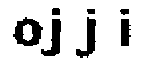i: (112, 3, 139, 52)
j: (73, 4, 99, 60), (42, 5, 65, 60)
o: (12, 15, 44, 47)
